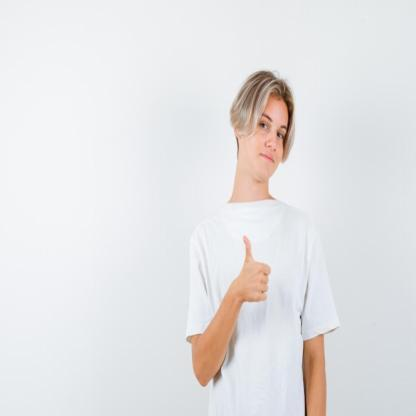thumb_up: (232, 233, 272, 306)
